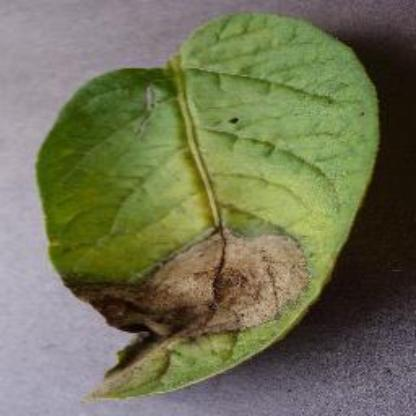Late-Blight: (28, 7, 384, 400)
